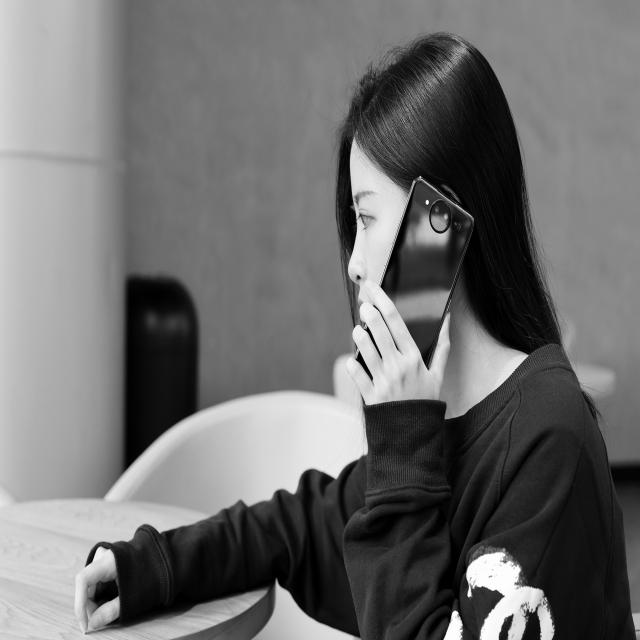phone: (336, 157, 476, 419)
